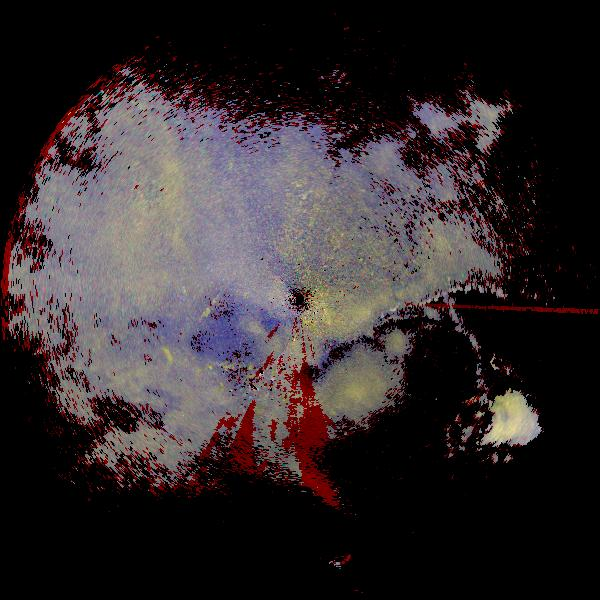roost: (150, 345, 177, 372)
